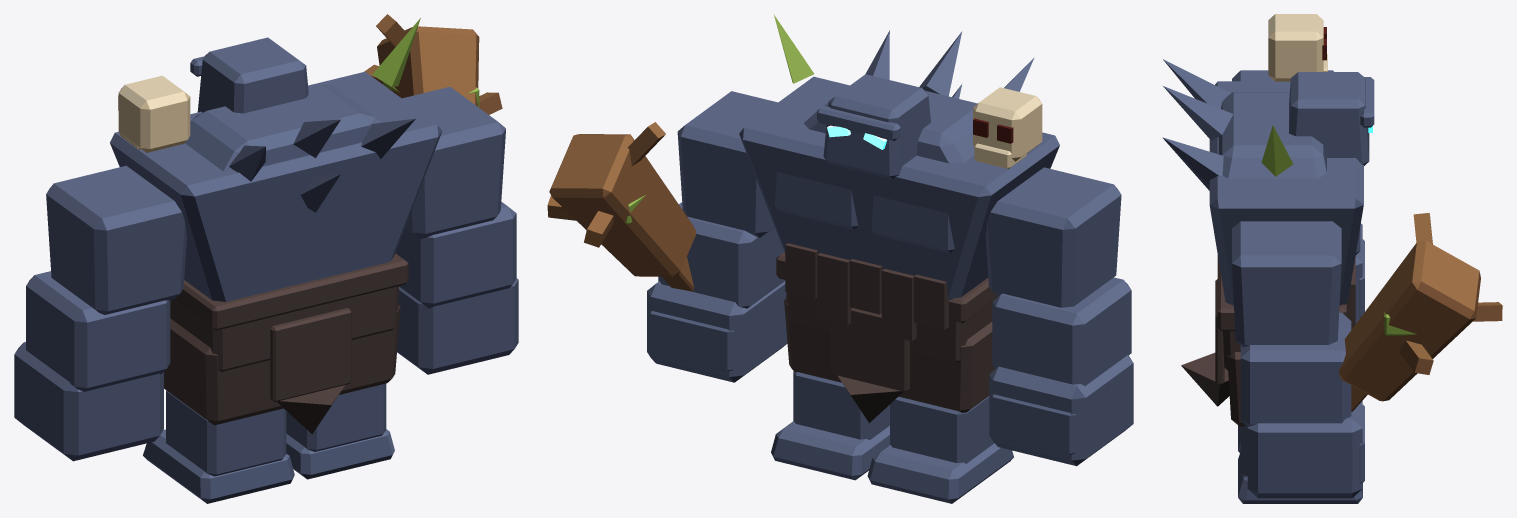
File: night_beast.glb
The picture shows the model from 3 angles, left to right: view 1: azimuth 30°, elevation 25°; view 2: azimuth 150°, elevation 25°; view 3: azimuth 270°, elevation 25°; orthographic projection. The views are drawn at different scales.
Visible parts, largest first — view 1: Torso, ArmL, ArmR, Hips, LegL, LegR; view 2: Torso, ArmR, ArmL, LegL, Hips, LegR; view 3: ArmR, Torso, Hips, LegR, ArmL.
Boxes of the visible parts, <box> form: Torso: <box>110,18,442,301</box>; ArmL: <box>14,165,186,461</box>; ArmR: <box>364,14,518,374</box>; Hips: <box>170,253,408,434</box>; LegL: <box>143,318,294,503</box>; LegR: <box>286,305,400,479</box>; Torso: <box>739,15,1059,341</box>; ArmR: <box>547,91,787,382</box>; ArmL: <box>985,167,1133,466</box>; LegL: <box>867,322,1013,503</box>; Hips: <box>776,252,998,422</box>; LegR: <box>771,298,889,480</box>; ArmR: <box>1232,212,1502,498</box>; Torso: <box>1162,14,1374,329</box>; Hips: <box>1181,255,1346,406</box>; LegR: <box>1227,352,1362,503</box>; ArmL: <box>1232,70,1364,323</box>.
Bounding box in the file's own units: 2.5 × 1.92 × 1.48.
